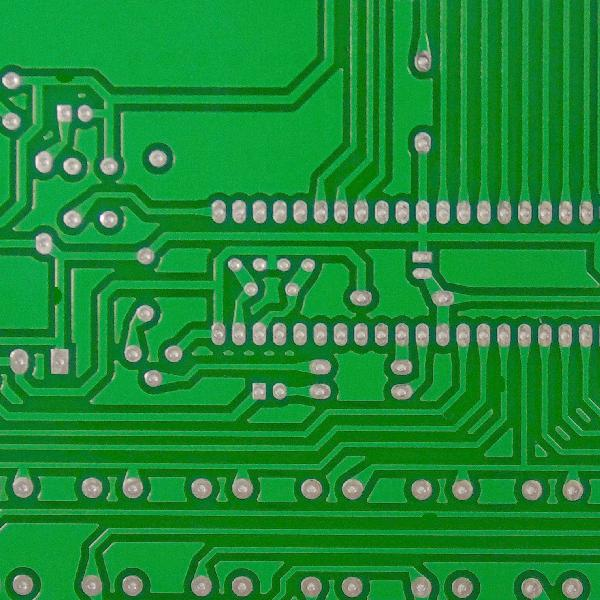mouse_bite: (413, 507, 445, 526), (50, 68, 79, 88), (49, 282, 69, 311), (495, 372, 511, 399)
